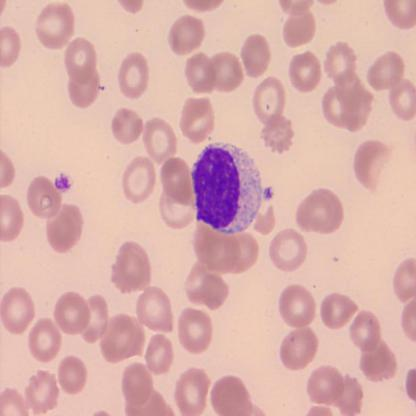Myelocyte: (193, 141, 262, 234)
